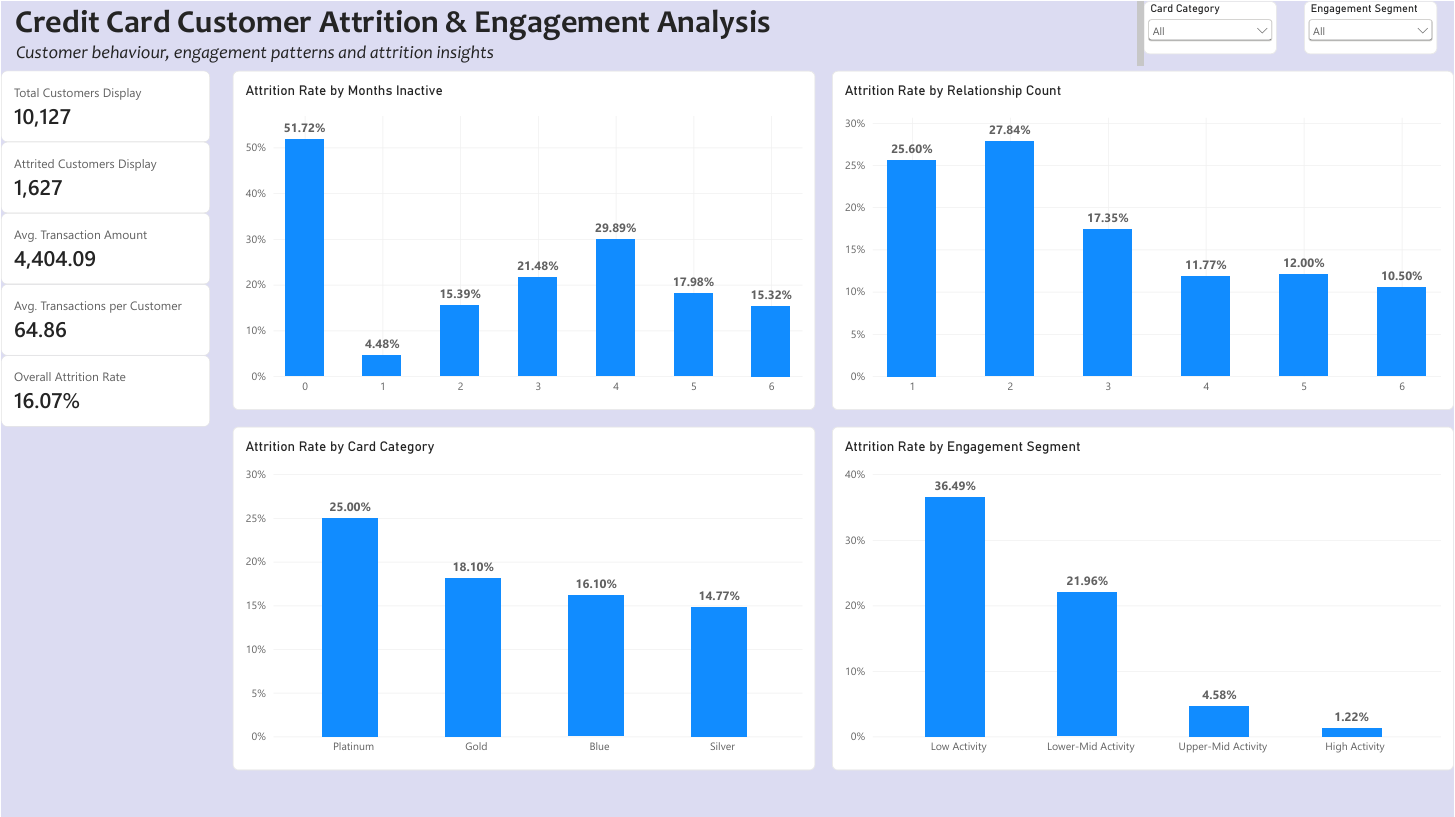

The page's visual inventory and layout, read from the dashboard file:
{"tool":"powerbi","page":{"name":"Executive Overview","canvas":[1920,1080],"ordinal":0},"visuals":[{"type":"cardVisual","fields":{"Data":["public vw_attrition_by_profile.Total Customers Display"]},"box":[0,92,276,94],"z":0},{"type":"cardVisual","fields":{"Data":["public vw_attrition_by_profile.Attrited Customers Display"]},"box":[0,186,276,94],"z":1},{"type":"cardVisual","fields":{"Data":["public vw_attrition_by_profile.Portfolio Avg Transaction Amount"]},"box":[0,280,276,94],"z":2},{"type":"cardVisual","fields":{"Data":["public vw_attrition_by_profile.Portfolio Avg Transaction Count"]},"box":[0,374,276,94],"z":3},{"type":"cardVisual","fields":{"Data":["public vw_attrition_by_profile.Portfolio Attrition Rate"]},"box":[0,468,276,94],"z":4},{"type":"clusteredColumnChart","title":"Attrition Rate by Months Inactive","fields":{"Category":["public vw_powerbi_customer_dataset.inactive_months"],"Y":["public vw_attrition_by_profile.Attrition Rate Numeric"]},"box":[306,92,770,448],"z":5},{"type":"clusteredColumnChart","title":"Attrition Rate by Relationship Count","fields":{"Category":["public vw_powerbi_customer_dataset.relationship_count"],"Y":["public vw_attrition_by_profile.Attrition Rate Numeric"]},"box":[1098,92,822,448],"z":6},{"type":"clusteredColumnChart","title":"Attrition Rate by Card Category","fields":{"Category":["public vw_powerbi_customer_dataset.card_category"],"Y":["public vw_attrition_by_profile.Attrition Rate Numeric"]},"box":[306,562,770,454],"z":7},{"type":"clusteredColumnChart","title":"Attrition Rate by Engagement Segment","fields":{"Category":["public vw_powerbi_customer_dataset.engagement_segment"],"Y":["public vw_attrition_by_profile.Attrition Rate Numeric"]},"box":[1098,562,822,454],"z":8},{"type":"slicer","title":"Card Category","fields":{"Values":["public vw_powerbi_customer_dataset.card_category"]},"box":[1510,0,176,70],"z":9},{"type":"slicer","fields":{"Values":["public vw_powerbi_customer_dataset.engagement_segment"]},"box":[1722,0,176,70],"z":10},{"type":"textbox","box":[0,0,1510,92],"z":11}]}

Visuals, with their boxes in screenshot pixels (x1, y1, x2, y2), scaled from the page's 1920x1080 canvas onto the 1455x817 screenshot:
cardVisual - public vw_attrition_by_profile.Total Customers Display: Rect(0, 70, 209, 141)
cardVisual - public vw_attrition_by_profile.Attrited Customers Display: Rect(0, 141, 209, 212)
cardVisual - public vw_attrition_by_profile.Portfolio Avg Transaction Amount: Rect(0, 212, 209, 283)
cardVisual - public vw_attrition_by_profile.Portfolio Avg Transaction Count: Rect(0, 283, 209, 354)
cardVisual - public vw_attrition_by_profile.Portfolio Attrition Rate: Rect(0, 354, 209, 425)
"Attrition Rate by Months Inactive" clusteredColumnChart: Rect(232, 70, 815, 408)
"Attrition Rate by Relationship Count" clusteredColumnChart: Rect(832, 70, 1454, 408)
"Attrition Rate by Card Category" clusteredColumnChart: Rect(232, 425, 815, 769)
"Attrition Rate by Engagement Segment" clusteredColumnChart: Rect(832, 425, 1454, 769)
"Card Category" slicer: Rect(1144, 0, 1278, 53)
slicer - public vw_powerbi_customer_dataset.engagement_segment: Rect(1305, 0, 1438, 53)
textbox: Rect(0, 0, 1144, 70)
